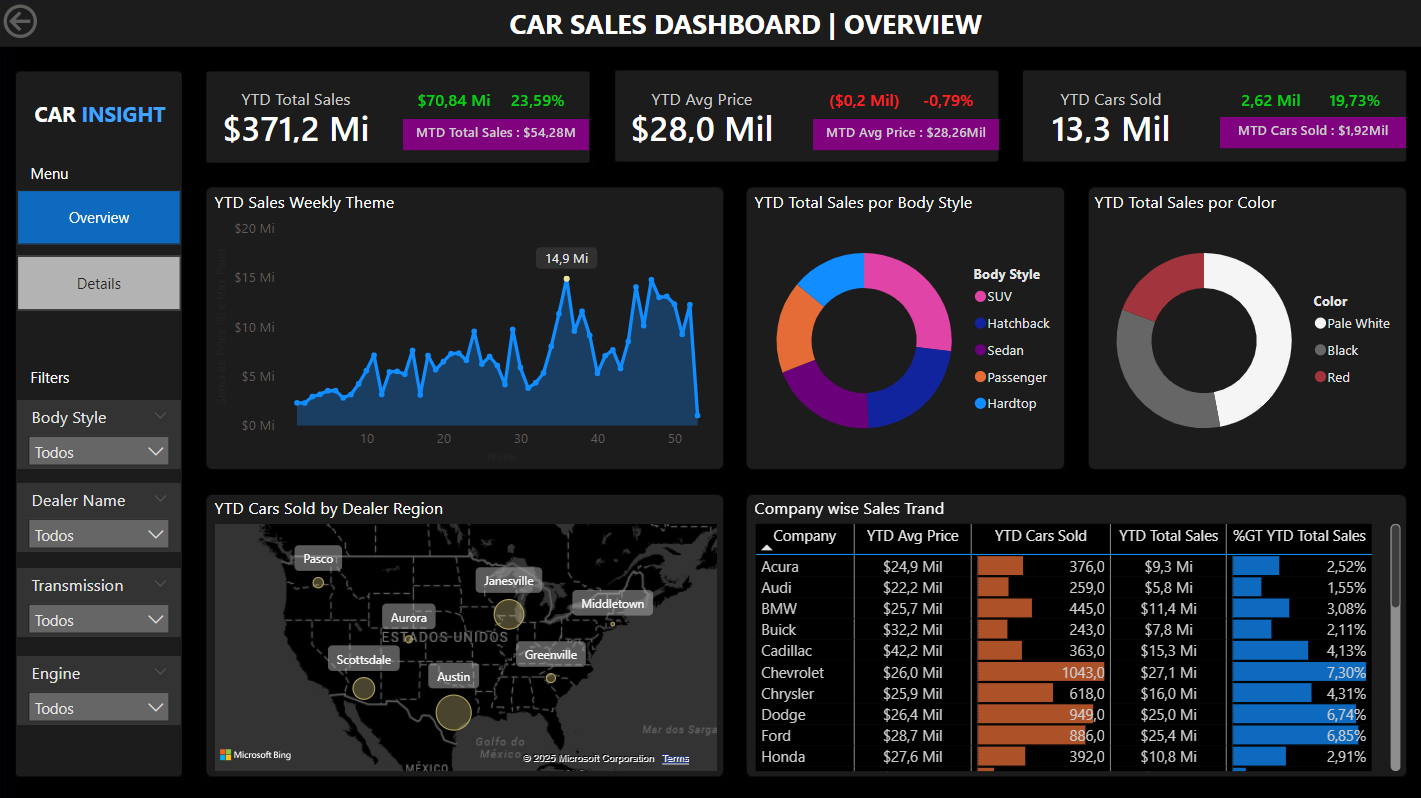

The dashboard page shown, as its layout file describes it:
{"tool":"powerbi","page":{"name":"Overview","canvas":[1280,720],"ordinal":0},"visuals":[{"type":"card","title":"YTD Total Sales","fields":{"Values":["car_data.YTD Total Sales"]},"box":[189.4,79,156.2,54.8],"z":0},{"type":"actionButton","box":[0,0,100,40],"z":1000},{"type":"card","fields":{"Values":["car_data.Sales Difference"]},"box":[363.6,79,91.6,26.9],"z":2000},{"type":"card","fields":{"Values":["car_data.YoY Sales Growth"]},"box":[439,79,91.6,26.9],"z":3000},{"type":"card","fields":{"Values":["car_data.MTD KPI"]},"box":[363.6,107.7,167,27.8],"z":4000},{"type":"card","title":"YTD Avg Price","fields":{"Values":["car_data.YTD Avg Price"]},"box":[553.9,79,156.2,54.8],"z":5000},{"type":"card","fields":{"Values":["car_data.Avg Price Diff"]},"box":[731.7,79,91.6,26.9],"z":6000},{"type":"card","fields":{"Values":["car_data.YoY Avg Price Growth"]},"box":[807.1,79,91.6,26.9],"z":7000},{"type":"card","fields":{"Values":["car_data.MTD Avg Price KPI"]},"box":[731.7,107.7,167,27.8],"z":8000},{"type":"card","title":"YTD Cars Sold","fields":{"Values":["car_data.YTD Cars Sold"]},"box":[921.1,79,156.2,54.8],"z":9000},{"type":"card","fields":{"Values":["car_data.Cars Sold Diff"]},"box":[1097.1,79,91.6,26.9],"z":10000},{"type":"card","fields":{"Values":["car_data.YoY Car Sold Growth"]},"box":[1172.5,79,91.6,26.9],"z":11000},{"type":"card","fields":{"Values":["car_data.MTD Cars Sold KPI"]},"box":[1097.1,105.9,167,27.8],"z":12000},{"type":"areaChart","title":"YTD Sales Weekly Theme","fields":{"Y":["Sum(car_data.Price ($))","car_data.Max Point"],"Category":["Calendar Table.Week"]},"box":[189.4,171.5,460.5,250.5],"z":13000},{"type":"donutChart","fields":{"Category":["car_data.Body Style"],"Y":["car_data.YTD Total Sales"]},"box":[674.2,171.5,284.6,250.5],"z":14000},{"type":"donutChart","fields":{"Y":["car_data.YTD Total Sales"],"Category":["car_data.Color"]},"box":[979.5,171.5,284.6,250.5],"z":15000},{"type":"map","title":"YTD Cars Sold by Dealer Region","fields":{"Category":["car_data.Dealer_Region"],"Size":["car_data.YTD Cars Sold"]},"box":[189.4,446.2,460.5,252.3],"z":16000},{"type":"tableEx","title":"Company wise Sales Trand","fields":{"Values":["car_data.Company","car_data.YTD Avg Price","car_data.YTD Cars Sold","car_data.YTD Total Sales1","car_data.YTD Total Sales"]},"box":[674.2,446.2,589.8,252.3],"z":17000},{"type":"textbox","box":[454.3,0,444.4,45.8],"z":17001},{"type":"slicer","fields":{"Values":["car_data.Body Style"]},"box":[17.1,360,147.2,61.9],"z":17002},{"type":"slicer","fields":{"Values":["car_data.Dealer_Name"]},"box":[17.1,434.5,147.2,61.9],"z":17003},{"type":"slicer","fields":{"Values":["car_data.Transmission"]},"box":[17.1,510.8,147.2,61.9],"z":17004},{"type":"slicer","fields":{"Values":["car_data.Engine"]},"box":[17.1,589.8,147.2,61.9],"z":17005},{"type":"textbox","box":[24.2,325.9,66.4,26.9],"z":17006},{"type":"pageNavigator","box":[17.1,171.5,147.2,108.6],"z":17007},{"type":"textbox","box":[17.1,85.3,149,41.3],"z":17008},{"type":"textbox","box":[24.2,142.7,66.4,28.7],"z":17009}]}

Visuals, with their boxes in screenshot pixels (x1, y1, x2, y2), scaled from the page's 1280x720 canvas onto the 1421x798 screenshot:
"YTD Total Sales" card: {"x1": 210, "y1": 88, "x2": 384, "y2": 148}
actionButton: {"x1": 0, "y1": 0, "x2": 111, "y2": 44}
card - car_data.Sales Difference: {"x1": 404, "y1": 88, "x2": 505, "y2": 117}
card - car_data.YoY Sales Growth: {"x1": 487, "y1": 88, "x2": 589, "y2": 117}
card - car_data.MTD KPI: {"x1": 404, "y1": 119, "x2": 589, "y2": 150}
"YTD Avg Price" card: {"x1": 615, "y1": 88, "x2": 788, "y2": 148}
card - car_data.Avg Price Diff: {"x1": 812, "y1": 88, "x2": 914, "y2": 117}
card - car_data.YoY Avg Price Growth: {"x1": 896, "y1": 88, "x2": 998, "y2": 117}
card - car_data.MTD Avg Price KPI: {"x1": 812, "y1": 119, "x2": 998, "y2": 150}
"YTD Cars Sold" card: {"x1": 1023, "y1": 88, "x2": 1196, "y2": 148}
card - car_data.Cars Sold Diff: {"x1": 1218, "y1": 88, "x2": 1320, "y2": 117}
card - car_data.YoY Car Sold Growth: {"x1": 1302, "y1": 88, "x2": 1403, "y2": 117}
card - car_data.MTD Cars Sold KPI: {"x1": 1218, "y1": 117, "x2": 1403, "y2": 148}
"YTD Sales Weekly Theme" areaChart: {"x1": 210, "y1": 190, "x2": 721, "y2": 468}
donutChart - car_data.Body Style x car_data.YTD Total Sales: {"x1": 748, "y1": 190, "x2": 1064, "y2": 468}
donutChart - car_data.YTD Total Sales x car_data.Color: {"x1": 1087, "y1": 190, "x2": 1403, "y2": 468}
"YTD Cars Sold by Dealer Region" map: {"x1": 210, "y1": 495, "x2": 721, "y2": 774}
"Company wise Sales Trand" tableEx: {"x1": 748, "y1": 495, "x2": 1403, "y2": 774}
textbox: {"x1": 504, "y1": 0, "x2": 998, "y2": 51}
slicer - car_data.Body Style: {"x1": 19, "y1": 399, "x2": 182, "y2": 468}
slicer - car_data.Dealer_Name: {"x1": 19, "y1": 482, "x2": 182, "y2": 550}
slicer - car_data.Transmission: {"x1": 19, "y1": 566, "x2": 182, "y2": 635}
slicer - car_data.Engine: {"x1": 19, "y1": 654, "x2": 182, "y2": 722}
textbox: {"x1": 27, "y1": 361, "x2": 101, "y2": 391}
pageNavigator: {"x1": 19, "y1": 190, "x2": 182, "y2": 310}
textbox: {"x1": 19, "y1": 95, "x2": 184, "y2": 140}
textbox: {"x1": 27, "y1": 158, "x2": 101, "y2": 190}
